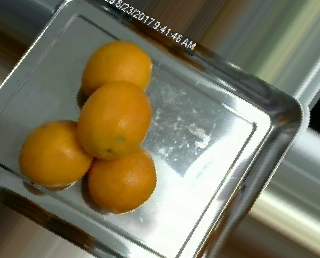Orange: (78, 80, 155, 159), (86, 144, 158, 214), (20, 118, 93, 187), (82, 41, 154, 100)
